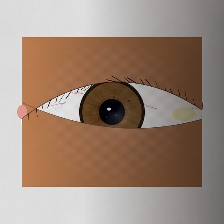pinguecula_lesion: (161, 95, 208, 133)
